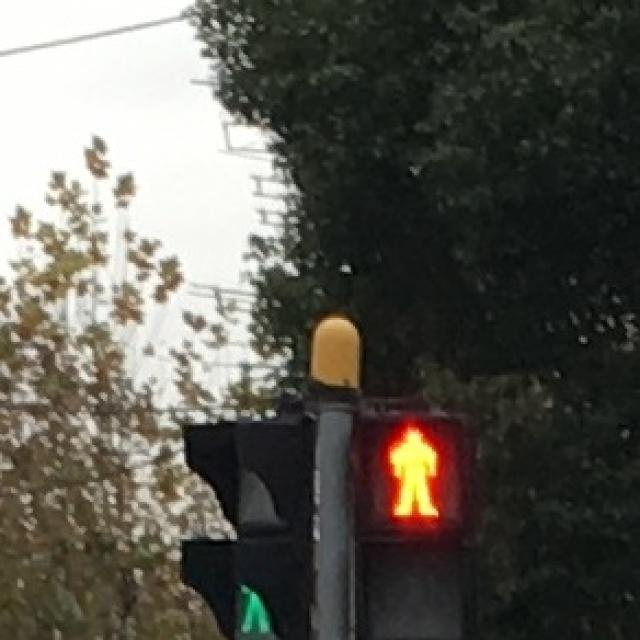red-crossing: (362, 418, 456, 526)
